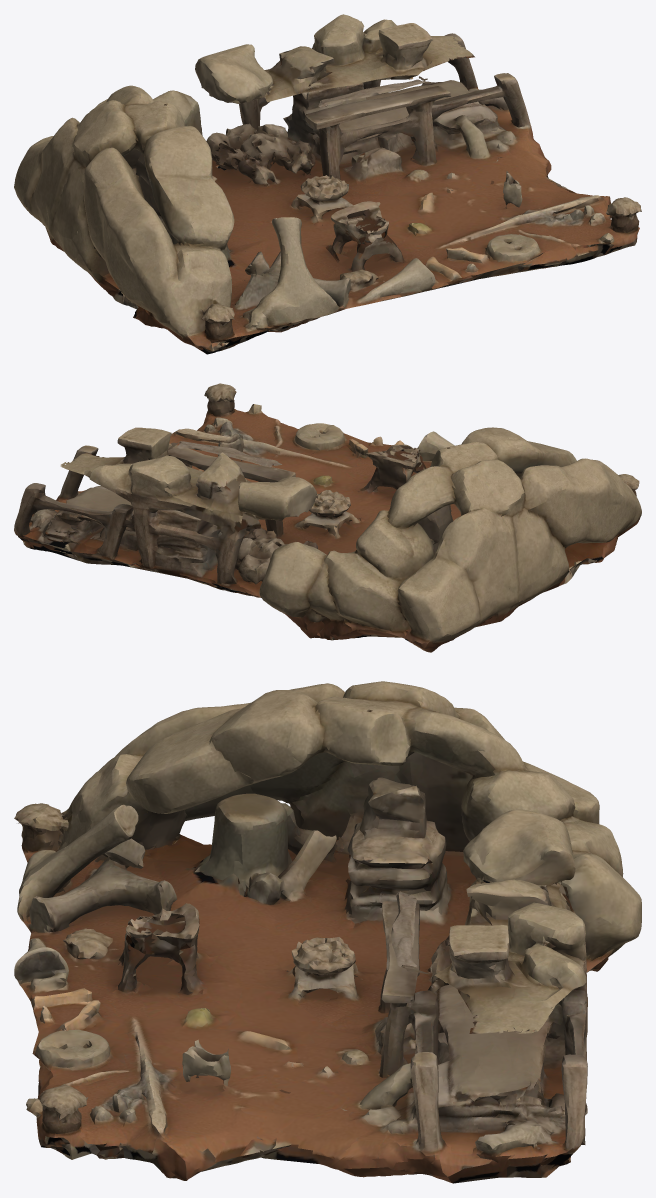
The model's file is giant-hold.glb.
3 renders of one model, top to bottom at view 1: azimuth 30°, elevation 25°; view 2: azimuth 150°, elevation 25°; view 3: azimuth 270°, elevation 25°, orthographic. The views are drawn at different scales.
Parts seen in each view (by area): view 1: output_unwrapped; view 2: output_unwrapped; view 3: output_unwrapped.
Part boxes in pixels (x1,y1,x2,y2): output_unwrapped: [14, 14, 641, 354]; output_unwrapped: [14, 383, 641, 652]; output_unwrapped: [14, 681, 641, 1183].
Bounding box in the file's own units: 1.89 × 0.5659 × 1.47.
Materials: 1 (1 with a texture image).
